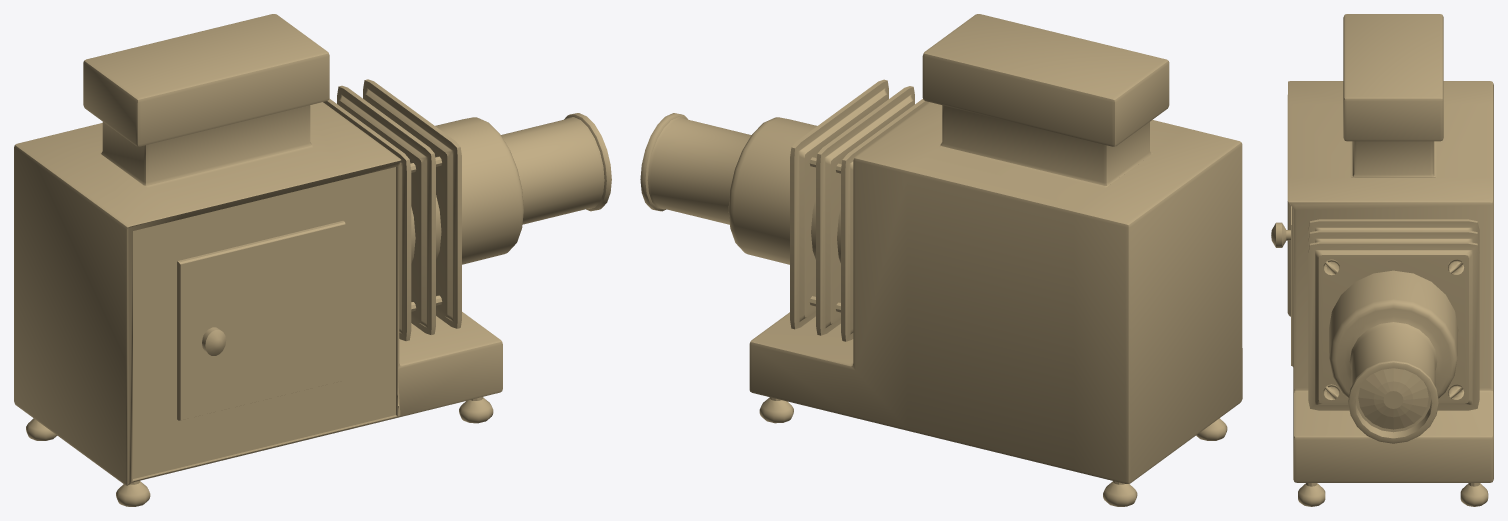
The model's file is camara_cuerpo.fbx.
3 views of the same model, side by side, from view 1: azimuth 30°, elevation 25°; view 2: azimuth 150°, elevation 25°; view 3: azimuth 270°, elevation 25° (orthographic). The views are drawn at different scales.
Parts seen in each view (by area): view 1: Caja; view 2: Caja; view 3: Caja.
Part boxes in pixels (box(x1,y1,x2,y2)): Caja: box(14, 14, 611, 506); Caja: box(640, 14, 1242, 506); Caja: box(1271, 14, 1493, 506).
Size of the model in its own units: 83.27 by 34.18 by 58.76.
